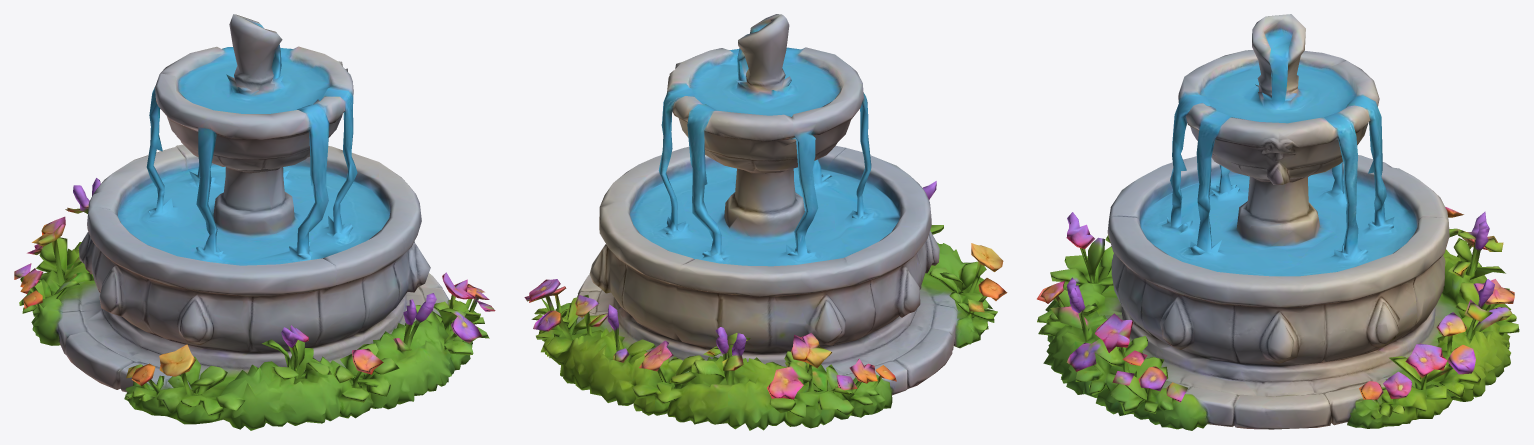
File: fountain.glb
3 views of the same model, side by side, from view 1: azimuth 30°, elevation 25°; view 2: azimuth 150°, elevation 25°; view 3: azimuth 270°, elevation 25° (orthographic). The views are drawn at different scales.
Visible parts, largest first — view 1: tripo_node_07928447-86b9-4e25-933d-04978b9fd5ed; view 2: tripo_node_07928447-86b9-4e25-933d-04978b9fd5ed; view 3: tripo_node_07928447-86b9-4e25-933d-04978b9fd5ed.
Boxes of the visible parts, bbox=[...] form: tripo_node_07928447-86b9-4e25-933d-04978b9fd5ed: bbox=[14, 14, 495, 430]; tripo_node_07928447-86b9-4e25-933d-04978b9fd5ed: bbox=[524, 14, 1007, 430]; tripo_node_07928447-86b9-4e25-933d-04978b9fd5ed: bbox=[1037, 14, 1519, 430].
Size of the model in its own units: 0.706 by 0.6001 by 0.8021.
1 material, 1 textured.
